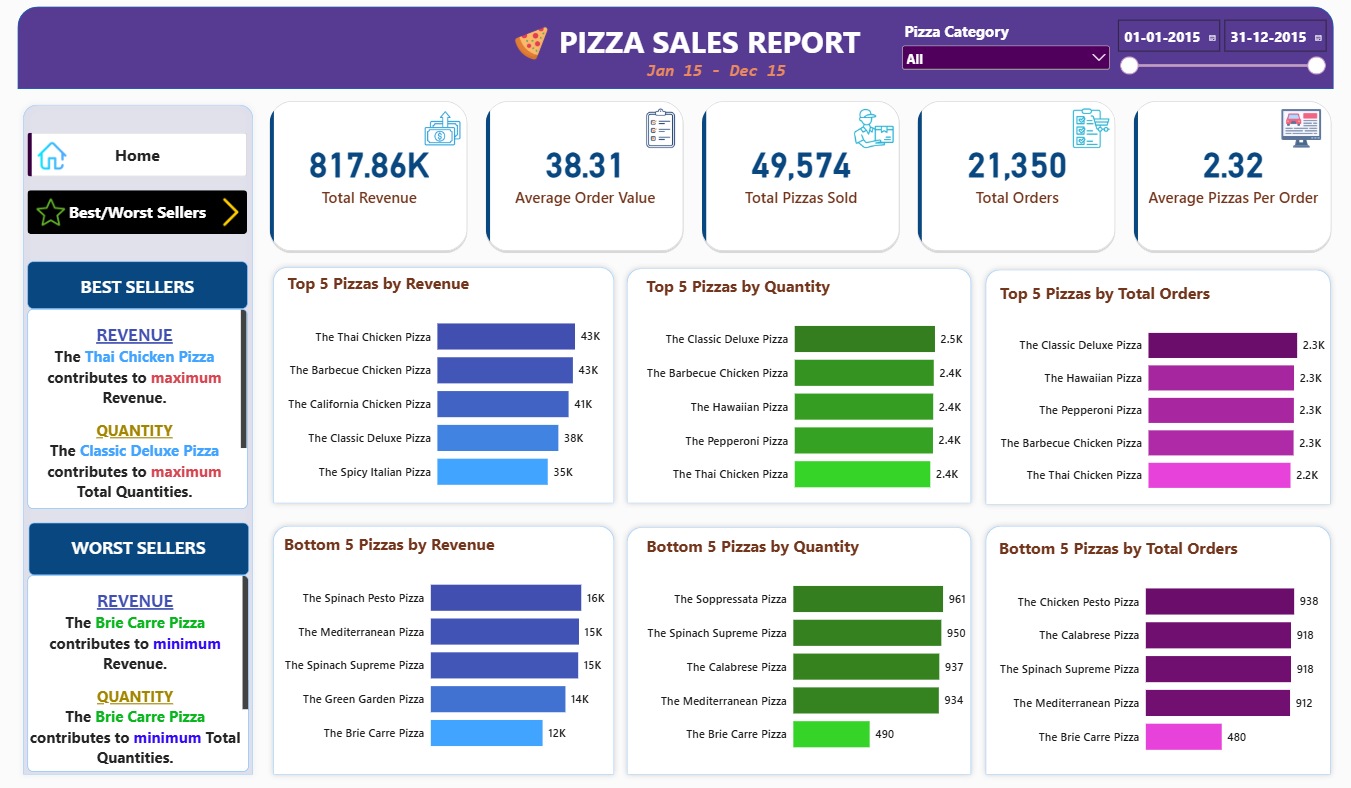

The dashboard page shown, as its layout file describes it:
{"tool":"powerbi","page":{"name":"Best/Worst Sellers","canvas":[1920,1132],"ordinal":1},"visuals":[{"type":"shape","box":[24.7,17.8,1870.6,117.2],"z":0,"group":"g2"},{"type":"textbox","box":[794.3,36.5,487.5,69.6],"z":0,"group":"g3"},{"type":"group","id":"g1","title":"Group 1","box":[380.2,149.2,1518.3,219.8],"z":0},{"type":"cardVisual","fields":{"Data":["pizza_sales.Total Revenue","pizza_sales.Average Order Value","pizza_sales.Total Pizzas Sold","pizza_sales.Total Orders","pizza_sales.Average Pizzas Per Order"]},"box":[380.2,149.2,1518.3,219.8],"z":0,"group":"g1"},{"type":"group","id":"g2","title":"Group 3","box":[24.7,17.8,1870.6,124.1],"z":1000},{"type":"group","id":"g3","title":"Group 2","box":[715.7,36.5,566.1,105.4],"z":1000,"group":"g2"},{"type":"textbox","box":[908.6,93.6,216.1,48.2],"z":1000,"group":"g3"},{"type":"image","box":[593.4,161.6,71.1,58.6],"z":1000,"group":"g1"},{"type":"image","box":[715.7,45.4,78.6,48.2],"z":2000,"group":"g3"},{"type":"shape","box":[24.9,149.2,342.9,968.2],"z":2000,"group":"g5"},{"type":"image","box":[902.5,161.6,72.8,58.6],"z":2000,"group":"g1"},{"type":"group","id":"g4","title":"Group 4","box":[380.2,380.2,499.2,351.7],"z":2000},{"type":"shape","box":[380.2,380.2,500.7,351.7],"z":2000,"group":"g4"},{"type":"shape","box":[882.9,381.9,505.5,350],"z":2000,"group":"g6"},{"type":"shape","box":[380.2,747.9,500.7,369.5],"z":2000,"group":"g7"},{"type":"shape","box":[882.9,749.7,505.5,367.7],"z":2000,"group":"g8"},{"type":"image","box":[1206.2,161.4,71.2,59],"z":3000,"group":"g1"},{"type":"shape","box":[1392.7,383.7,506.3,350],"z":3000},{"type":"group","id":"g5","title":"Group 4","box":[24.9,149.2,342.9,968.2],"z":4000},{"type":"image","box":[1515.4,161.6,71.1,58.6],"z":4000,"group":"g1"},{"type":"image","box":[1813.8,161.6,71.1,58.6],"z":5000,"group":"g1"},{"type":"textbox","box":[39.1,380.2,312.7,67.5],"z":5000},{"type":"textbox","box":[39.1,447.7,312.7,284.2],"z":6000},{"type":"textbox","box":[40.9,751.4,312.7,74.6],"z":7000},{"type":"slicer","fields":{"Values":["pizza_sales.pizza_category"]},"box":[1277.3,37.3,305,97.7],"z":8000},{"type":"slicer","fields":{"Values":["pizza_sales.order_date"]},"box":[1581.1,32,305.6,97.7],"z":9000},{"type":"pageNavigator","box":[39.1,278.9,312.7,62.2],"z":9500},{"type":"group","id":"g6","title":"Group 4","box":[882.9,381.9,506.3,350],"z":10000},{"type":"group","id":"g7","title":"Group 4","box":[380.2,747.9,499.2,369.5],"z":11000},{"type":"barChart","title":"Bottom 5 Pizzas by Revenue","fields":{"Category":["pizza_sales.pizza_name"],"Y":["pizza_sales.Total Revenue"]},"box":[387.3,751.4,515.2,353.5],"z":12000},{"type":"group","id":"g8","title":"Group 4","box":[882.9,749.7,506.3,367.7],"z":13000},{"type":"shape","box":[1392.7,747.9,506.3,369.5],"z":14000},{"type":"barChart","title":"Top 5 Pizzas by Revenue","fields":{"Category":["pizza_sales.pizza_name"],"Y":["pizza_sales.Total Revenue"]},"box":[392.6,380.2,515.2,353.5],"z":15000},{"type":"barChart","title":"Top 5 Pizzas by Quantity","fields":{"Category":["pizza_sales.pizza_name"],"Y":["pizza_sales.Total Pizzas Sold"]},"box":[902.4,383.7,486.8,353.5],"z":16000},{"type":"barChart","title":"Bottom 5 Pizzas by Quantity","fields":{"Category":["pizza_sales.pizza_name"],"Y":["pizza_sales.Total Pizzas Sold"]},"box":[902.4,753.2,486.8,353.5],"z":17000},{"type":"barChart","title":"Top 5 Pizzas by Total Orders","fields":{"Category":["pizza_sales.pizza_name"],"Y":["pizza_sales.Total Orders"]},"box":[1405.2,394.4,515.2,342.9],"z":18000},{"type":"barChart","title":"Bottom 5 Pizzas by Total Orders","fields":{"Category":["pizza_sales.pizza_name"],"Y":["pizza_sales.Total Orders"]},"box":[1403,757.2,486.8,353.5],"z":19000},{"type":"textbox","box":[39.1,826.1,314.4,278.9],"z":20000},{"type":"pageNavigator","box":[39.1,197.2,312.7,62.2],"z":21500},{"type":"image","box":[32,209.6,83.5,40.9],"z":22000},{"type":"image","box":[30.2,289.6,83.5,40.9],"z":23000},{"type":"image","box":[286,289.6,83.5,40.9],"z":25000}]}

Visuals, with their boxes in screenshot pixels (x1, y1, x2, y2), scaled from the page's 1920x1132 canvas onto the 1351x788 screenshot:
shape: BBox(17, 12, 1334, 94)
textbox: BBox(559, 25, 902, 74)
"Group 1" group: BBox(268, 104, 1336, 257)
cardVisual - pizza_sales.Total Revenue x pizza_sales.Average Order Value: BBox(268, 104, 1336, 257)
"Group 3" group: BBox(17, 12, 1334, 99)
"Group 2" group: BBox(504, 25, 902, 99)
textbox: BBox(639, 65, 791, 99)
image: BBox(418, 112, 468, 153)
image: BBox(504, 32, 559, 65)
shape: BBox(18, 104, 259, 778)
image: BBox(635, 112, 686, 153)
"Group 4" group: BBox(268, 265, 619, 509)
shape: BBox(268, 265, 620, 509)
shape: BBox(621, 266, 977, 509)
shape: BBox(268, 521, 620, 778)
shape: BBox(621, 522, 977, 778)
image: BBox(849, 112, 899, 153)
shape: BBox(980, 267, 1336, 511)
"Group 4" group: BBox(18, 104, 259, 778)
image: BBox(1066, 112, 1116, 153)
image: BBox(1276, 112, 1326, 153)
textbox: BBox(28, 265, 248, 312)
textbox: BBox(28, 312, 248, 509)
textbox: BBox(29, 523, 249, 575)
slicer - pizza_sales.pizza_category: BBox(899, 26, 1113, 94)
slicer - pizza_sales.order_date: BBox(1113, 22, 1328, 90)
pageNavigator: BBox(28, 194, 248, 237)
"Group 4" group: BBox(621, 266, 978, 509)
"Group 4" group: BBox(268, 521, 619, 778)
"Bottom 5 Pizzas by Revenue" barChart: BBox(273, 523, 635, 769)
"Group 4" group: BBox(621, 522, 978, 778)
shape: BBox(980, 521, 1336, 778)
"Top 5 Pizzas by Revenue" barChart: BBox(276, 265, 639, 511)
"Top 5 Pizzas by Quantity" barChart: BBox(635, 267, 978, 513)
"Bottom 5 Pizzas by Quantity" barChart: BBox(635, 524, 978, 770)
"Top 5 Pizzas by Total Orders" barChart: BBox(989, 275, 1350, 513)
"Bottom 5 Pizzas by Total Orders" barChart: BBox(987, 527, 1330, 773)
textbox: BBox(28, 575, 249, 769)
pageNavigator: BBox(28, 137, 248, 181)
image: BBox(23, 146, 81, 174)
image: BBox(21, 202, 80, 230)
image: BBox(201, 202, 260, 230)
